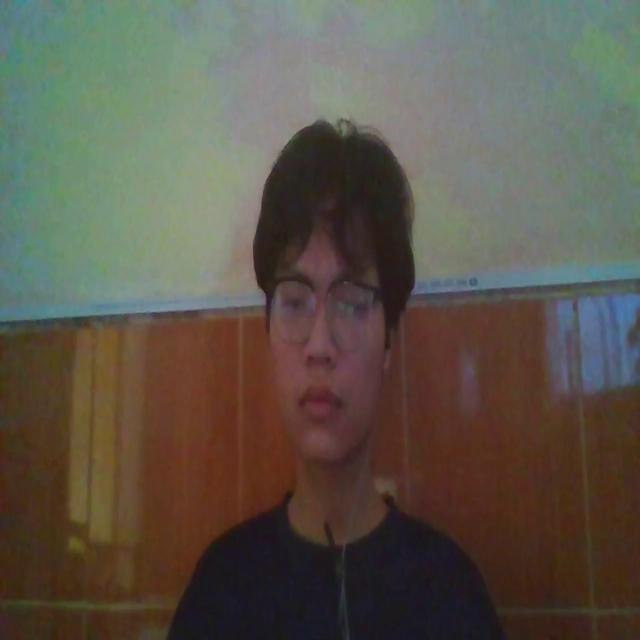student: (160, 104, 506, 640)
